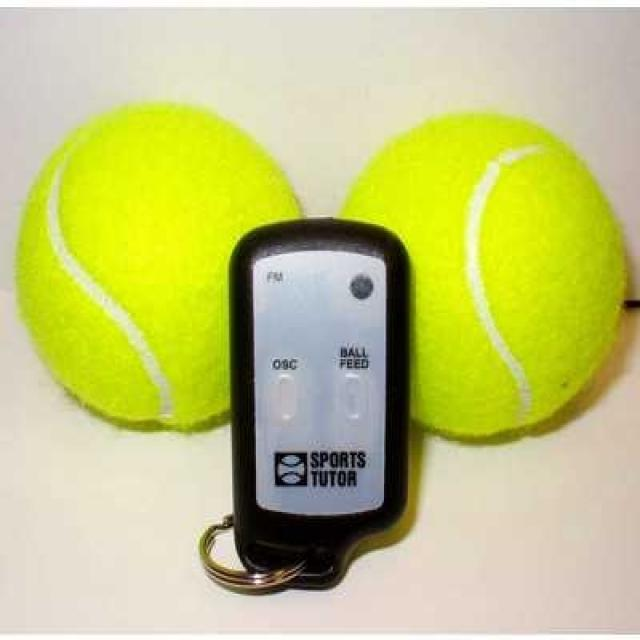Tennis_Ball: (25, 110, 307, 443), (346, 111, 626, 431)
